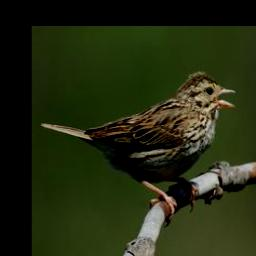Sparrow: (42, 69, 239, 227)
